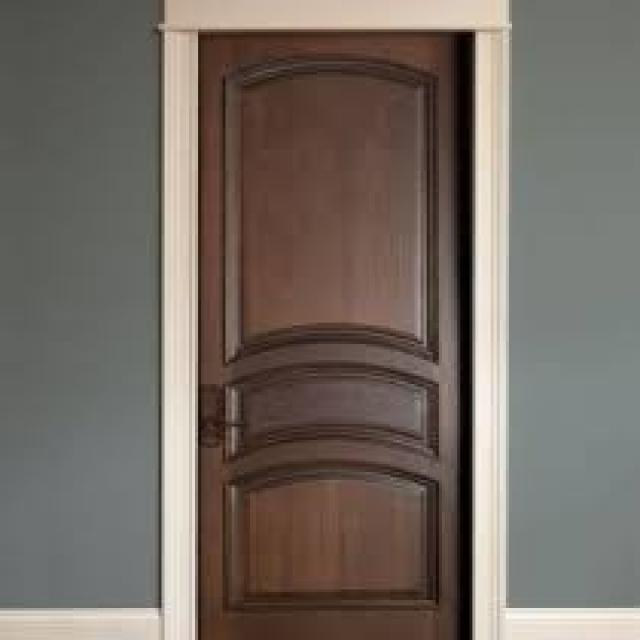Door: (195, 37, 470, 632)
